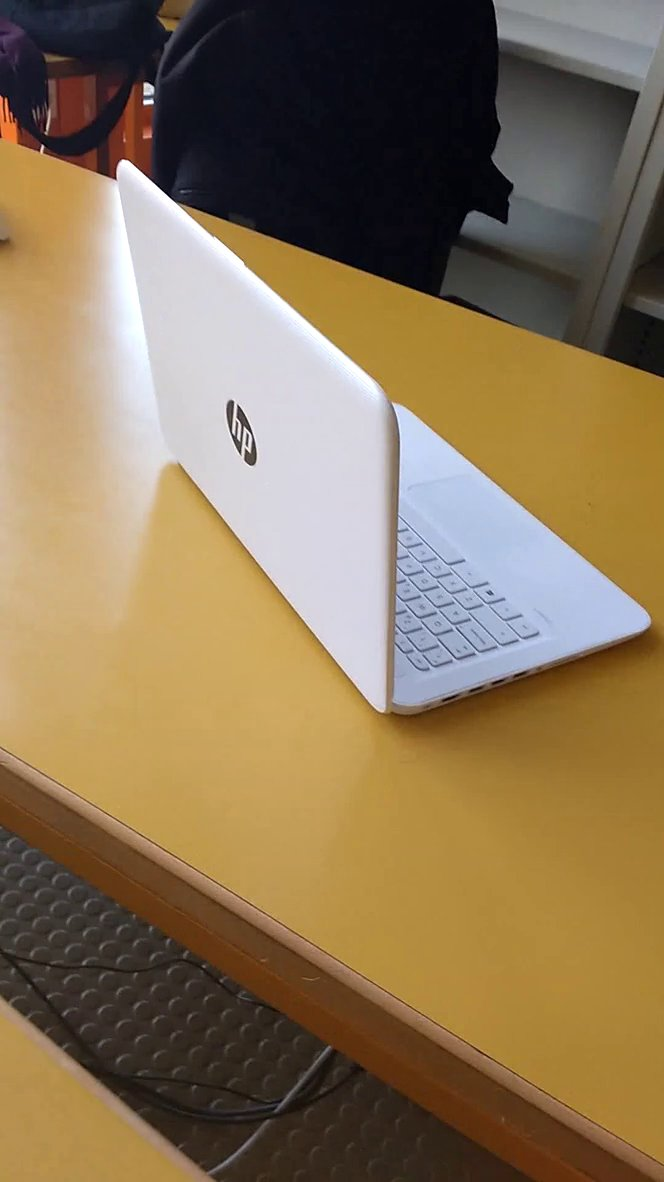laptop: (104, 148, 659, 735)
